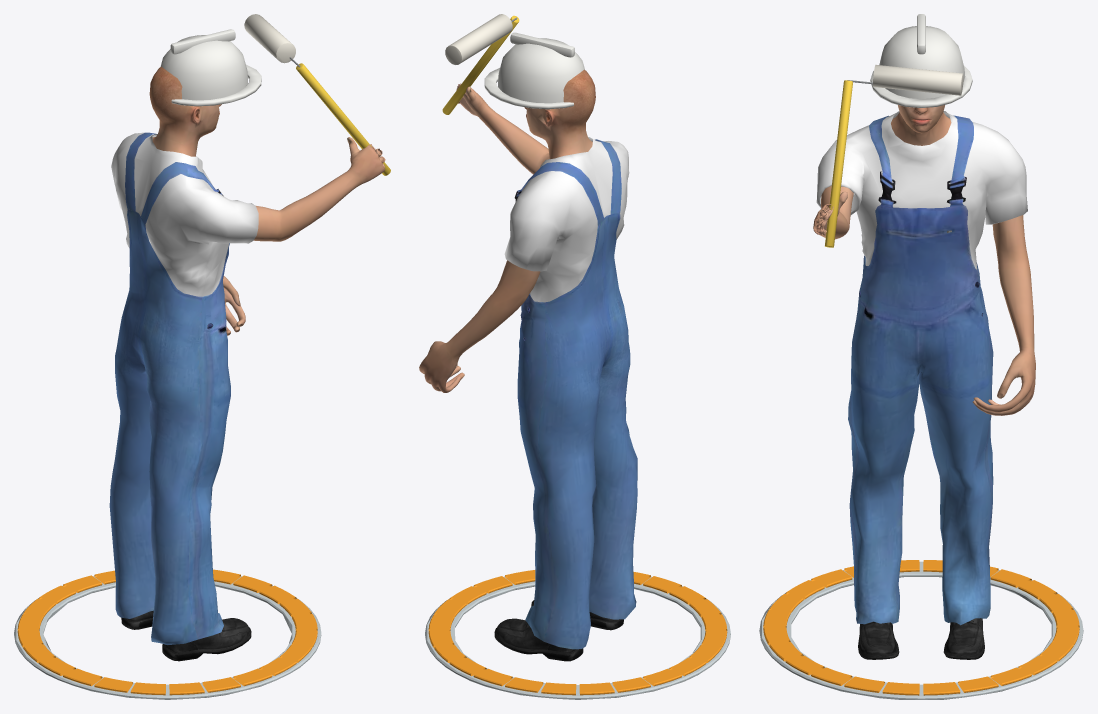
Rendered from MDO-OBR-006_lod1.glb.
The picture shows the model from 3 angles, left to right: view 1: azimuth 30°, elevation 25°; view 2: azimuth 150°, elevation 25°; view 3: azimuth 270°, elevation 25°; orthographic projection. The views are drawn at different scales.
Parts seen in each view (by area): view 1: MDO-OBR-006_pessoa_male_worksuit01, MDO-OBR-006_pessoa, MDO-OBR-006_capacete, MDO-OBR-006_anel_fundo, MDO-OBR-006_pessoa_shoes04, MDO-OBR-006_ferD_rolo, MDO-OBR-006_ferD_cabo, MDO-OBR-006_capacete_aba, MDO-OBR-006_capacete_friso; view 2: MDO-OBR-006_pessoa_male_worksuit01, MDO-OBR-006_pessoa, MDO-OBR-006_capacete, MDO-OBR-006_anel_fundo, MDO-OBR-006_pessoa_shoes04, MDO-OBR-006_ferD_rolo, MDO-OBR-006_ferD_cabo, MDO-OBR-006_capacete_aba, MDO-OBR-006_capacete_friso; view 3: MDO-OBR-006_pessoa_male_worksuit01, MDO-OBR-006_pessoa, MDO-OBR-006_anel_fundo, MDO-OBR-006_capacete, MDO-OBR-006_pessoa_shoes04, MDO-OBR-006_ferD_rolo, MDO-OBR-006_ferD_cabo, MDO-OBR-006_capacete_aba.
Part boxes in pixels (x1=…): MDO-OBR-006_pessoa_male_worksuit01: x1=109, y1=132, x2=258, y2=644; MDO-OBR-006_pessoa: x1=149, y1=66, x2=385, y2=335; MDO-OBR-006_capacete: x1=160, y1=35, x2=248, y2=100; MDO-OBR-006_anel_fundo: x1=14, y1=576, x2=321, y2=699; MDO-OBR-006_pessoa_shoes04: x1=121, y1=610, x2=251, y2=661; MDO-OBR-006_ferD_rolo: x1=244, y1=14, x2=295, y2=63; MDO-OBR-006_ferD_cabo: x1=296, y1=63, x2=390, y2=175; MDO-OBR-006_capacete_aba: x1=171, y1=64, x2=261, y2=106; MDO-OBR-006_capacete_friso: x1=170, y1=29, x2=235, y2=54; MDO-OBR-006_pessoa_male_worksuit01: x1=504, y1=137, x2=637, y2=649; MDO-OBR-006_pessoa: x1=419, y1=70, x2=595, y2=392; MDO-OBR-006_capacete: x1=498, y1=38, x2=584, y2=103; MDO-OBR-006_anel_fundo: x1=425, y1=576, x2=730, y2=699; MDO-OBR-006_pessoa_shoes04: x1=494, y1=600, x2=623, y2=661; MDO-OBR-006_ferD_rolo: x1=445, y1=14, x2=512, y2=64; MDO-OBR-006_ferD_cabo: x1=442, y1=15, x2=519, y2=114; MDO-OBR-006_capacete_aba: x1=484, y1=68, x2=573, y2=109; MDO-OBR-006_capacete_friso: x1=510, y1=32, x2=574, y2=57; MDO-OBR-006_pessoa_male_worksuit01: x1=816, y1=111, x2=1027, y2=625; MDO-OBR-006_pessoa: x1=813, y1=105, x2=1035, y2=415; MDO-OBR-006_anel_fundo: x1=759, y1=561, x2=1083, y2=699; MDO-OBR-006_capacete: x1=879, y1=26, x2=965, y2=99; MDO-OBR-006_pessoa_shoes04: x1=858, y1=618, x2=984, y2=659; MDO-OBR-006_ferD_rolo: x1=873, y1=65, x2=963, y2=95; MDO-OBR-006_ferD_cabo: x1=825, y1=80, x2=852, y2=247; MDO-OBR-006_capacete_aba: x1=870, y1=66, x2=972, y2=107.
Bounding box in the file's own units: 0.9848 × 1.79 × 0.84.
11 materials, 5 textured.
